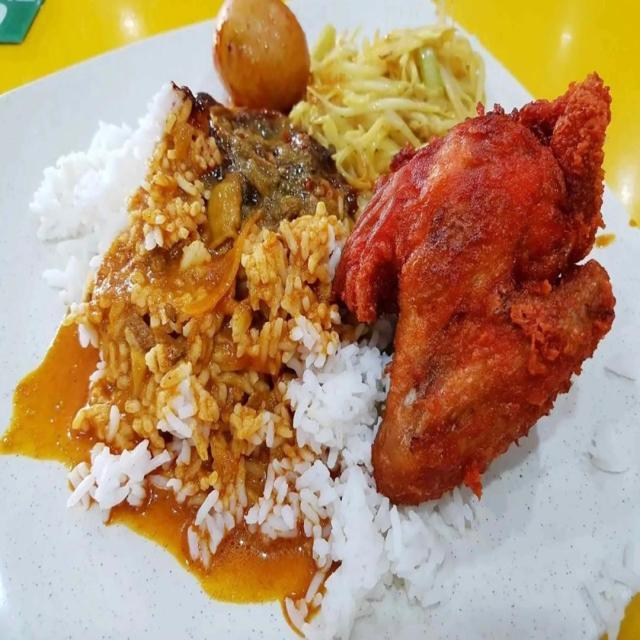Chicken: (337, 75, 610, 509)
Egg: (214, 0, 306, 104)
Plate: (621, 599, 639, 639)
Rice: (35, 81, 474, 640)
Vegetables: (290, 27, 486, 196)
